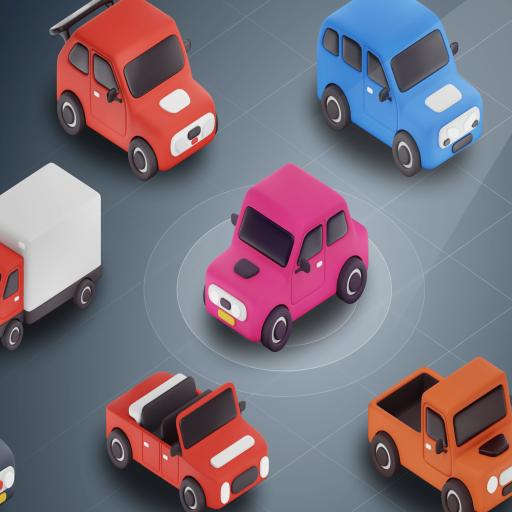coupe: (106, 372, 269, 512), (107, 372, 268, 512)
hatchback: (202, 166, 371, 357), (47, 0, 223, 181), (312, 0, 486, 180)
pickup: (366, 355, 512, 512)
truck: (0, 162, 102, 354)
